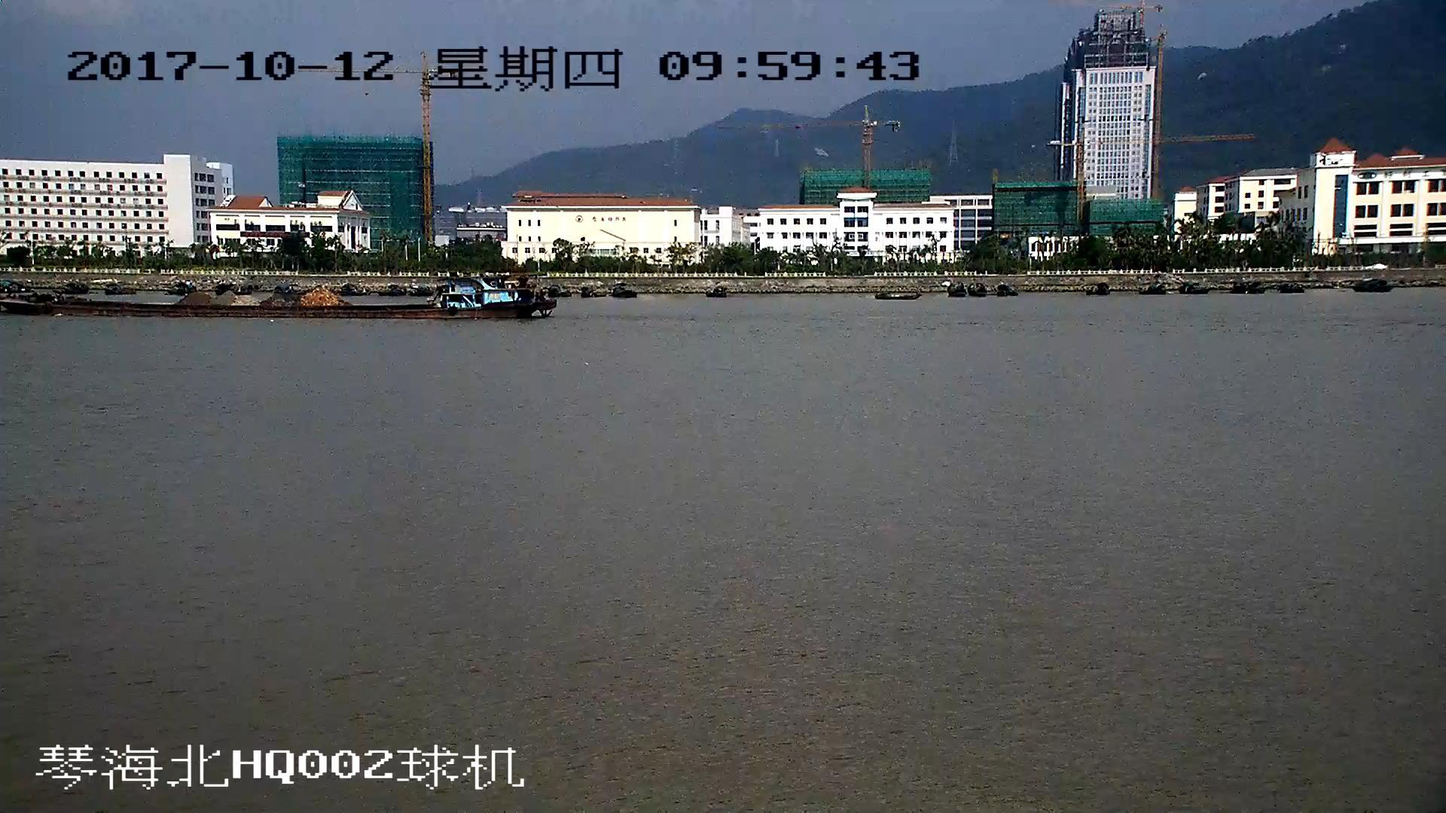ore carrier: (0, 267, 559, 315)
